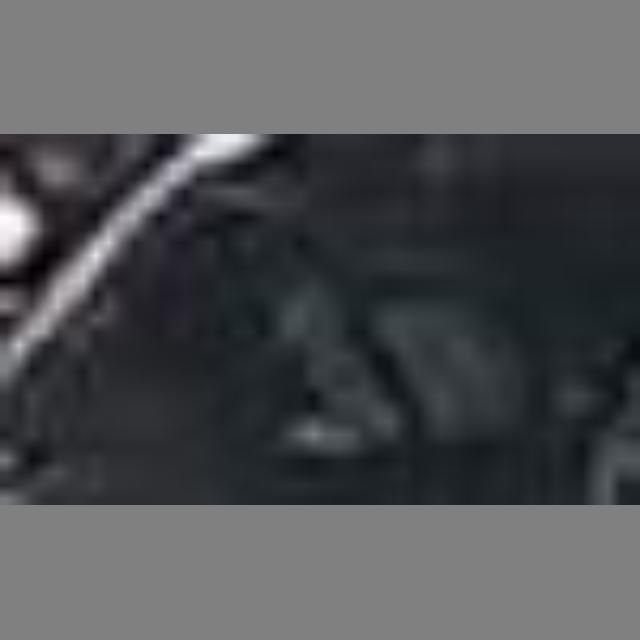pakai: (243, 249, 486, 454)
